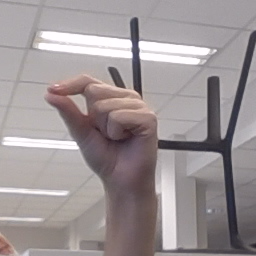S: (39, 73, 161, 178)
